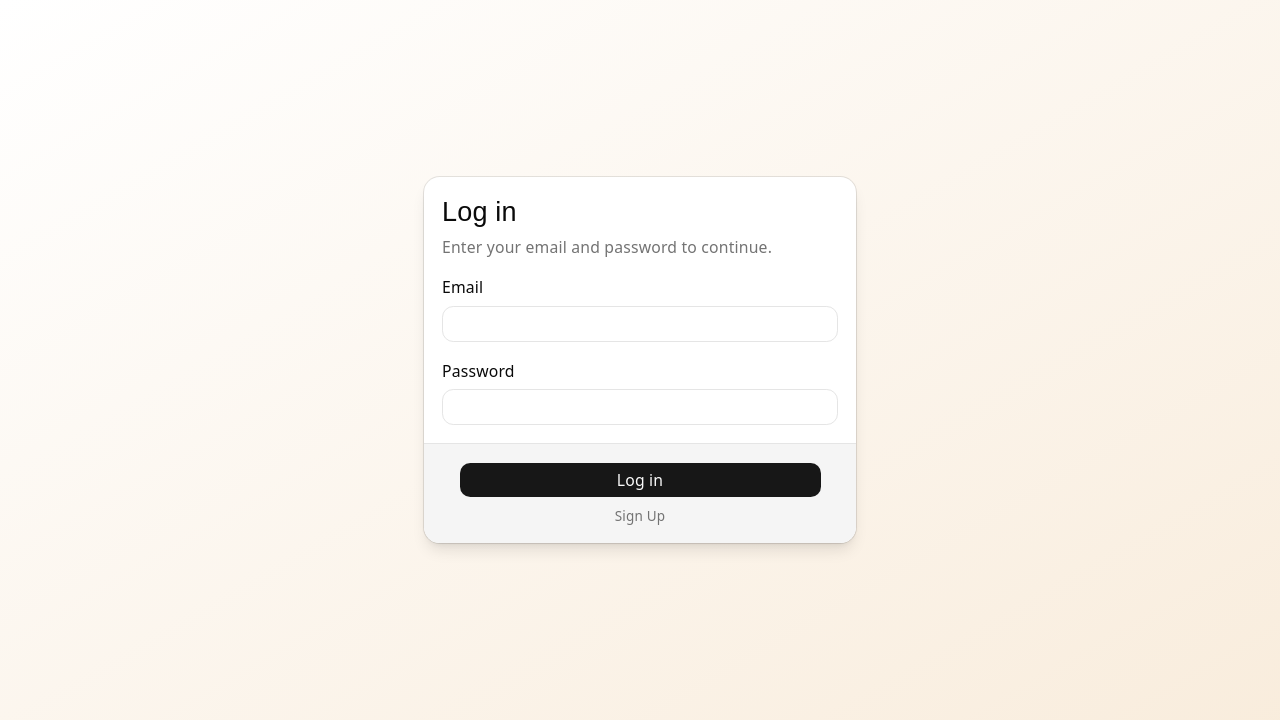
Test: LoginPage › shows the generic error message when credentials are invalid
The image size is (1280, 720).
Type "wrong@example.com" into the field labelled "Email" at (640, 324), box x1=442 y1=306 x2=838 y2=342
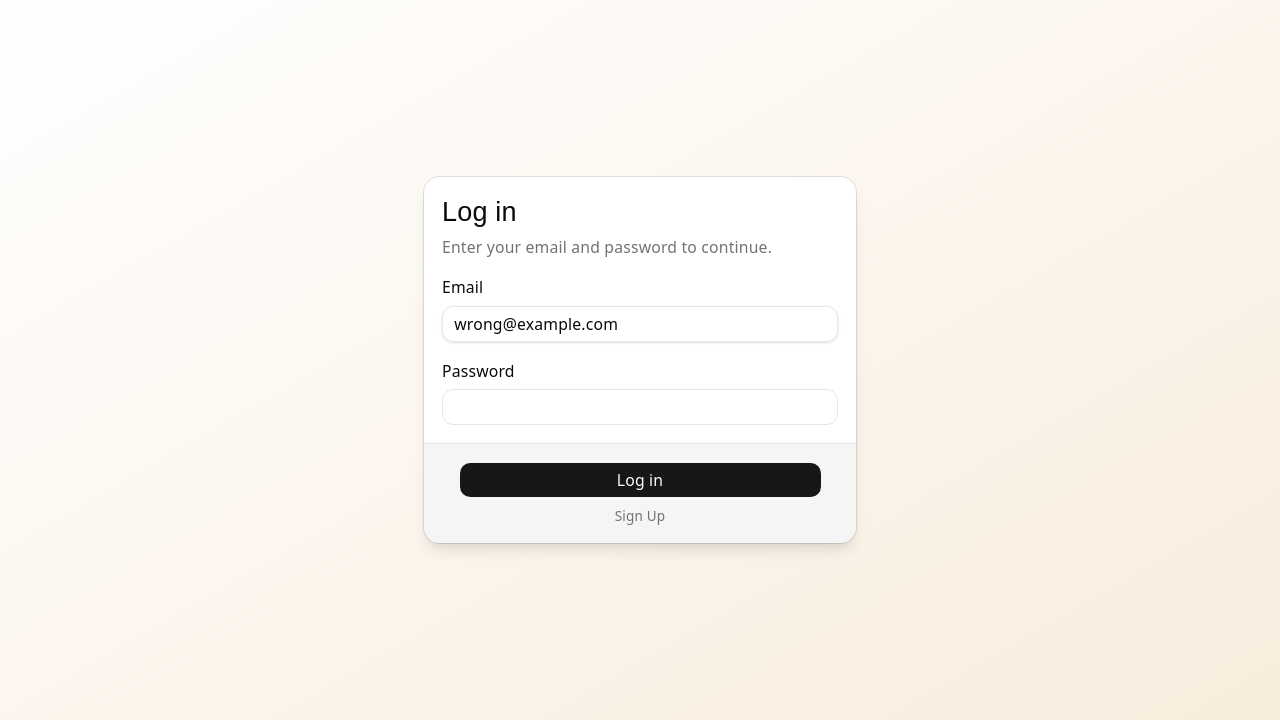
Type "wrongpass" into the password field labelled "Password" at (640, 407), box x1=442 y1=389 x2=838 y2=425
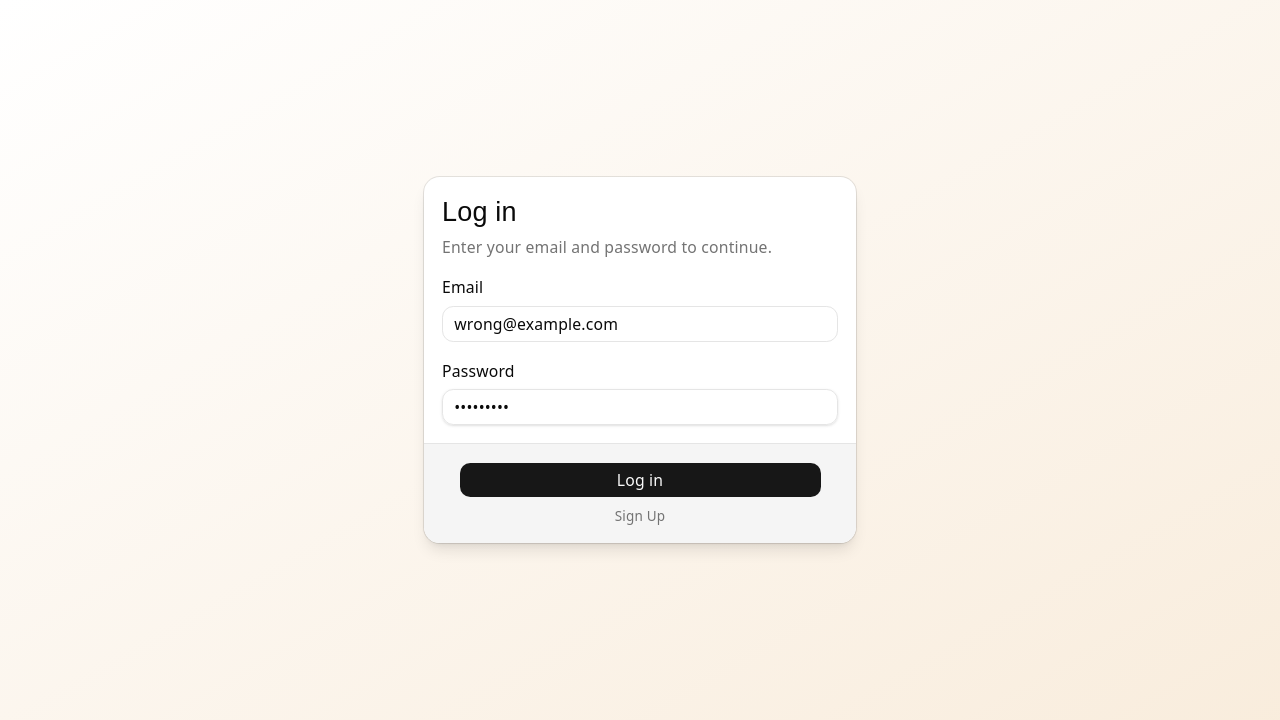
Click the button "Log in" at (640, 480), box x1=458 y1=462 x2=822 y2=498
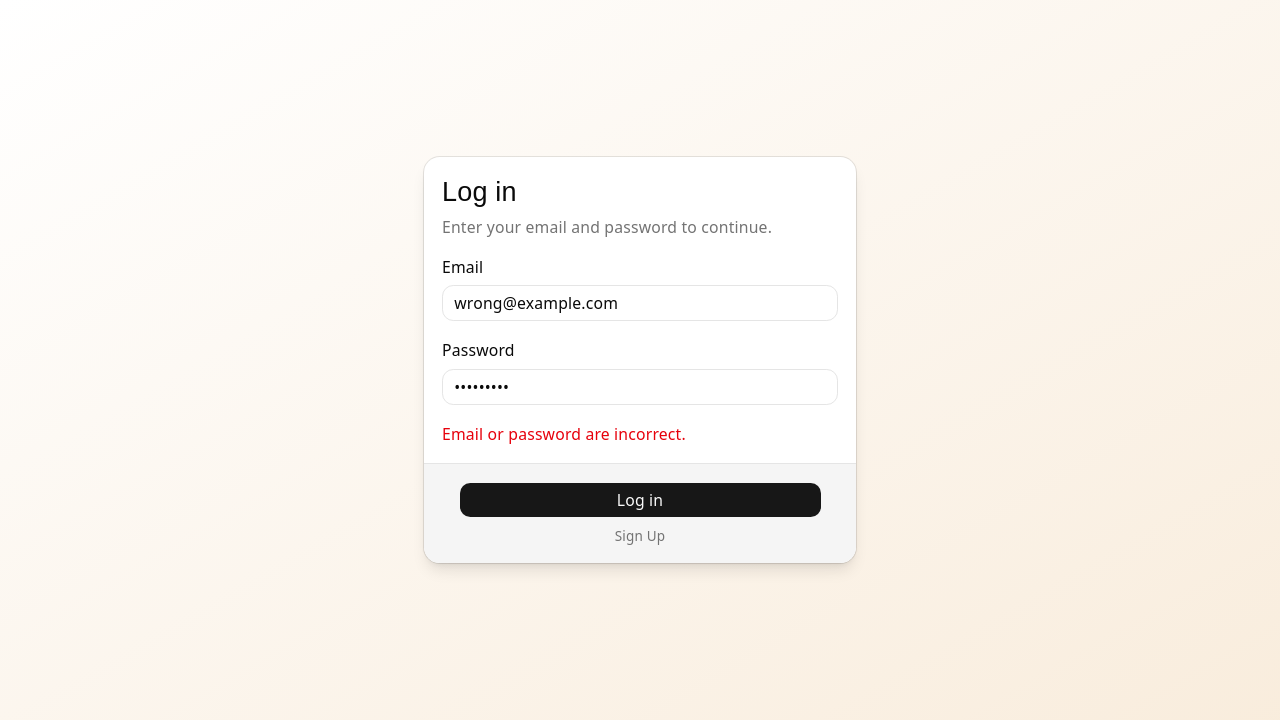
Result: the message reads "Email or password are incorrect." at x1=442 y1=422 x2=686 y2=444
